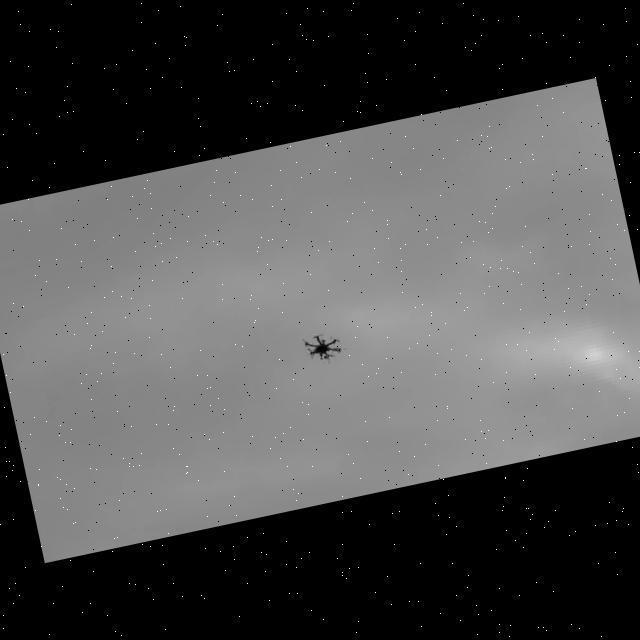Drons: (294, 322, 352, 376)
